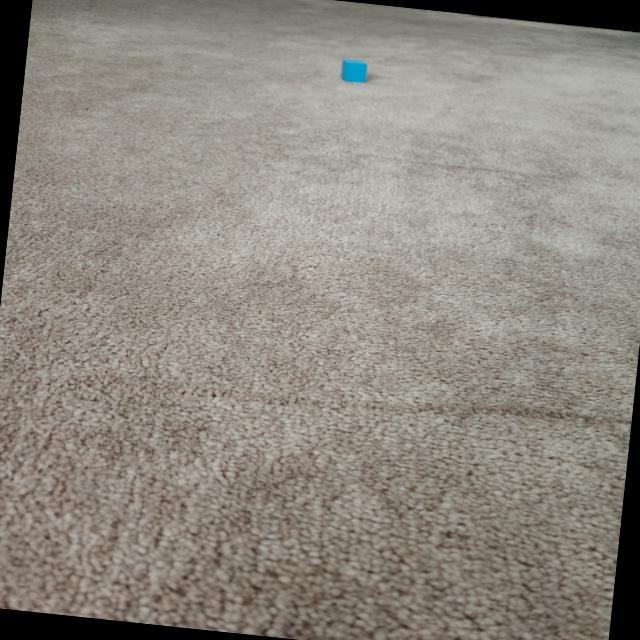bluecube: (340, 56, 370, 84)
